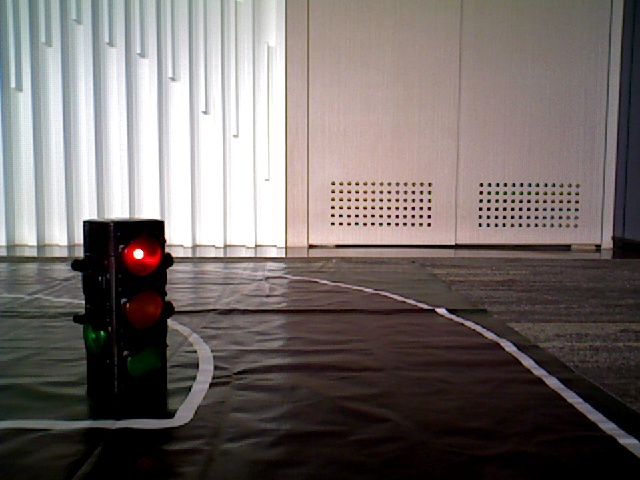red: (108, 223, 168, 408)
